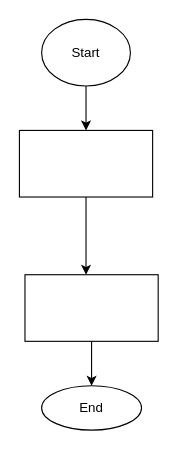
The diagram is 178 pixels wide and 450 high, and some of its shapes have lost their labels. The shapes that lost their labels are listed below. From the top down, each one's centre as x and y in pixels, then its label:
At point 85,163: "Date = new date();".
At point 91,307: "Convert Date datetostring();".
